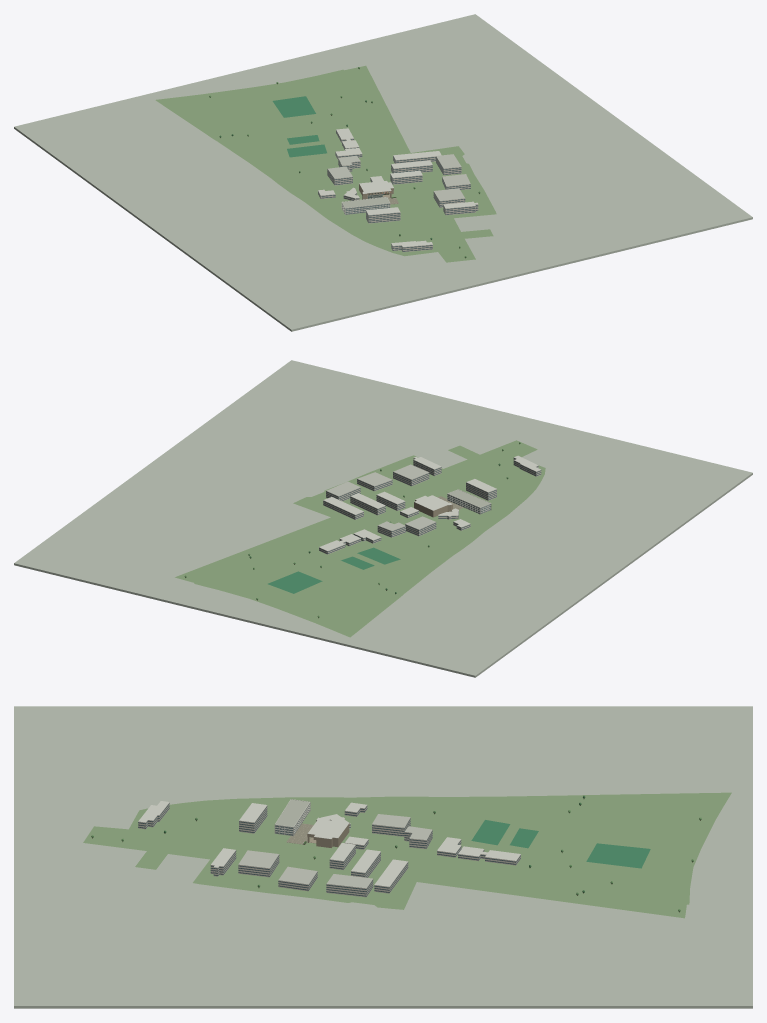
File: UAM_Iztapalapa_sin_marca.glb
The picture shows the model from 3 angles, top to bottom: view 1: azimuth 30°, elevation 25°; view 2: azimuth 150°, elevation 25°; view 3: azimuth 270°, elevation 25°; orthographic projection. The views are drawn at different scales.
Visible parts, largest first — view 1: Base maqueta, Predio_aproximado, Cancha_aproximada_0; view 2: Base maqueta, Predio_aproximado, Cancha_aproximada_0; view 3: Base maqueta, Predio_aproximado, Azotea (×3), Cancha_aproximada_0, Cancha_aproximada_2.
Boxes of the visible parts, bbox=[...] form: Base maqueta: bbox=[14, 14, 752, 331]; Predio_aproximado: bbox=[155, 65, 496, 262]; Cancha_aproximada_0: bbox=[272, 96, 315, 117]; Base maqueta: bbox=[14, 360, 752, 677]; Predio_aproximado: bbox=[175, 440, 545, 637]; Cancha_aproximada_0: bbox=[268, 571, 322, 593]; Base maqueta: bbox=[14, 706, 752, 1008]; Predio_aproximado: bbox=[83, 792, 731, 918]; Azotea (×3): bbox=[238, 799, 349, 868]; Cancha_aproximada_0: bbox=[586, 843, 650, 868]; Cancha_aproximada_2: bbox=[471, 820, 510, 845].
Size of the model in its own units: 960 by 21.1 by 1000.
Materials: 30 (1 with a texture image).
